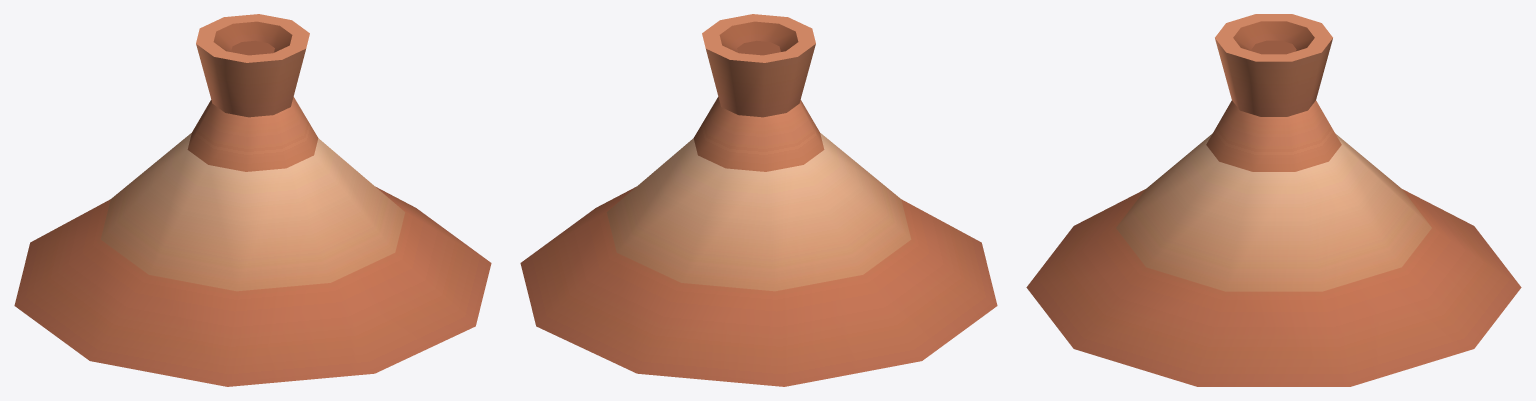
The model's file is tajine-lid.glb.
3 renders of one model, left to right at view 1: azimuth 30°, elevation 25°; view 2: azimuth 150°, elevation 25°; view 3: azimuth 270°, elevation 25°, orthographic.
Parts seen in each view (by area): view 1: tajine-lid; view 2: tajine-lid; view 3: tajine-lid.
Boxes of the visible parts, x1,y1,x2,y2 form: tajine-lid: (14,14,491,386); tajine-lid: (520,14,997,386); tajine-lid: (1026,14,1521,386).
Size of the model in its own units: 0.7555 by 0.442 by 0.7943.
Materials: 1 (1 with a texture image).
